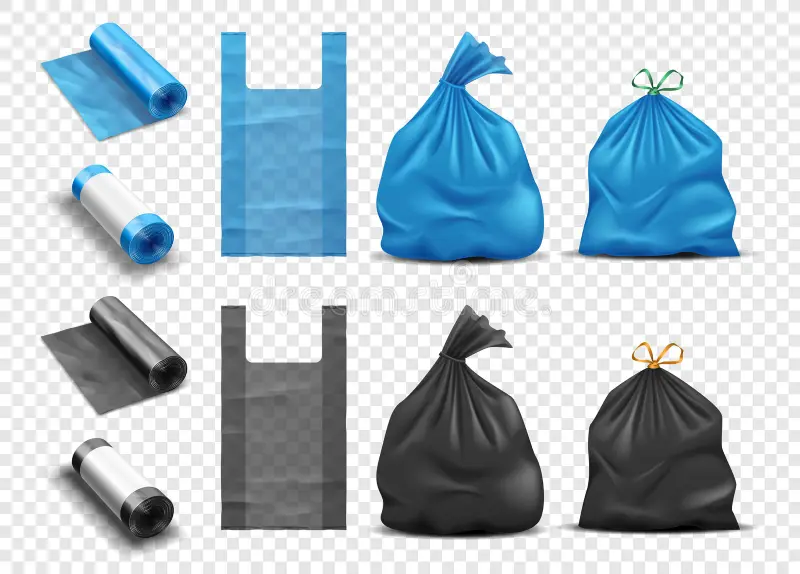normal_waste: (377, 305, 541, 534), (377, 34, 543, 260), (579, 342, 738, 531), (579, 69, 738, 254), (222, 33, 345, 255), (222, 307, 345, 529), (42, 23, 186, 140), (43, 296, 186, 413), (73, 165, 173, 263), (73, 439, 173, 536)
